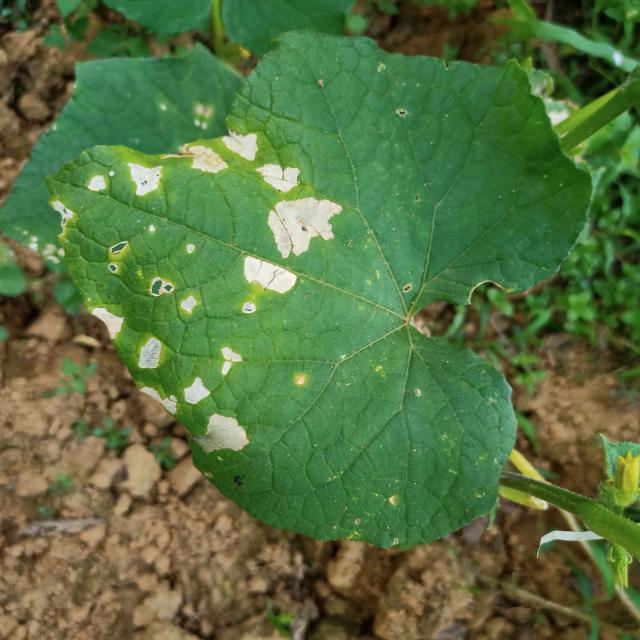disease_cucumber: (245, 198, 342, 294), (183, 347, 254, 452), (135, 334, 178, 418), (188, 130, 262, 172), (86, 160, 164, 197), (150, 276, 198, 315), (256, 164, 301, 194), (94, 301, 122, 340)
